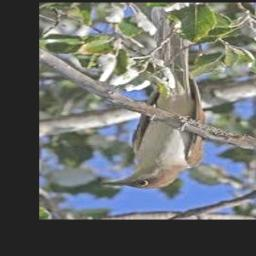Cuckoo: (103, 14, 206, 188)
